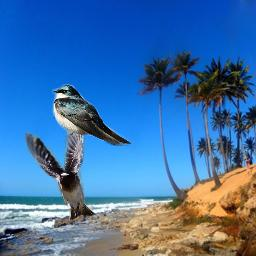Swallow: (25, 114, 97, 220), (52, 84, 132, 146)
